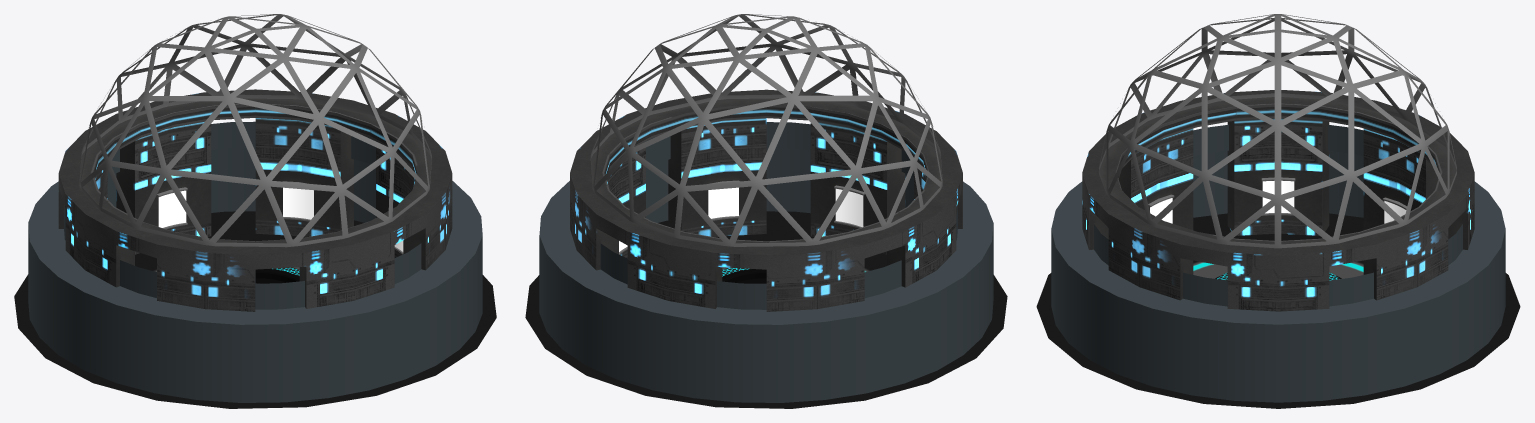
The picture shows the model from 3 angles, left to right: view 1: azimuth 30°, elevation 25°; view 2: azimuth 150°, elevation 25°; view 3: azimuth 270°, elevation 25°; orthographic projection.
Parts seen in each view (by area): view 1: Cylinder, new:polySurface3, new:pPlatonic1, new:_______polySurface1, new:polySurface13, new:__pCylinder1; view 2: Cylinder, new:polySurface3, new:pPlatonic1, new:_______polySurface1, new:polySurface13, new:__pCylinder1; view 3: Cylinder, new:polySurface3, new:pPlatonic1, new:_______polySurface1, new:polySurface13.
Boxes of the visible parts, x1,y1,x2,y2 form: Cylinder: (28, 121, 482, 402); new:polySurface3: (58, 89, 452, 311); new:pPlatonic1: (79, 14, 431, 247); new:_______polySurface1: (14, 211, 496, 408); new:polySurface13: (156, 181, 403, 254); new:__pCylinder1: (255, 267, 299, 283); Cylinder: (539, 122, 993, 402); new:polySurface3: (570, 89, 962, 311); new:pPlatonic1: (590, 14, 942, 246); new:_______polySurface1: (525, 211, 1007, 408); new:polySurface13: (619, 180, 864, 254); new:__pCylinder1: (722, 267, 766, 283); Cylinder: (1051, 124, 1505, 402); new:polySurface3: (1082, 90, 1474, 311); new:pPlatonic1: (1099, 14, 1456, 248); new:_______polySurface1: (1036, 213, 1520, 408); new:polySurface13: (1148, 177, 1407, 223).
Bounding box in the file's own units: 147 × 95.05 × 147.
7 materials, 4 textured.
